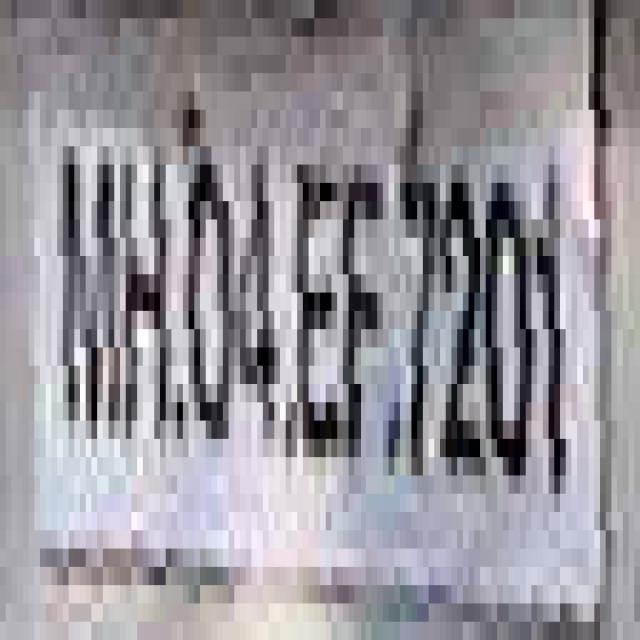license_plate: (0, 55, 606, 585)
